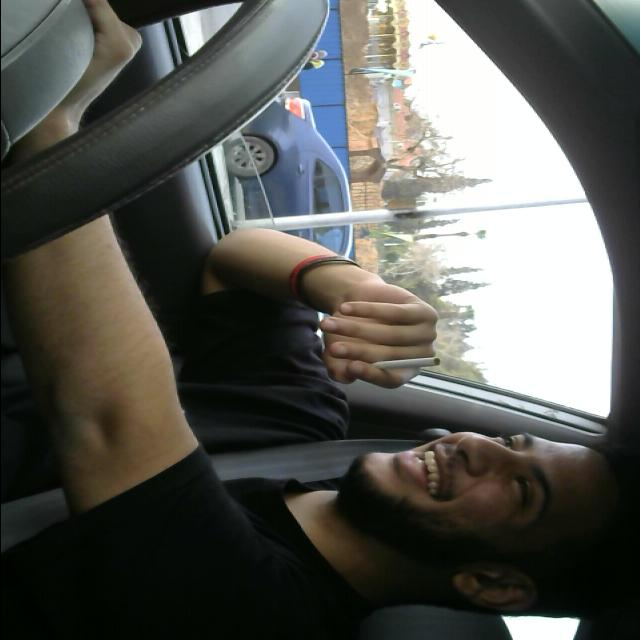smoking: (348, 339, 444, 383)
